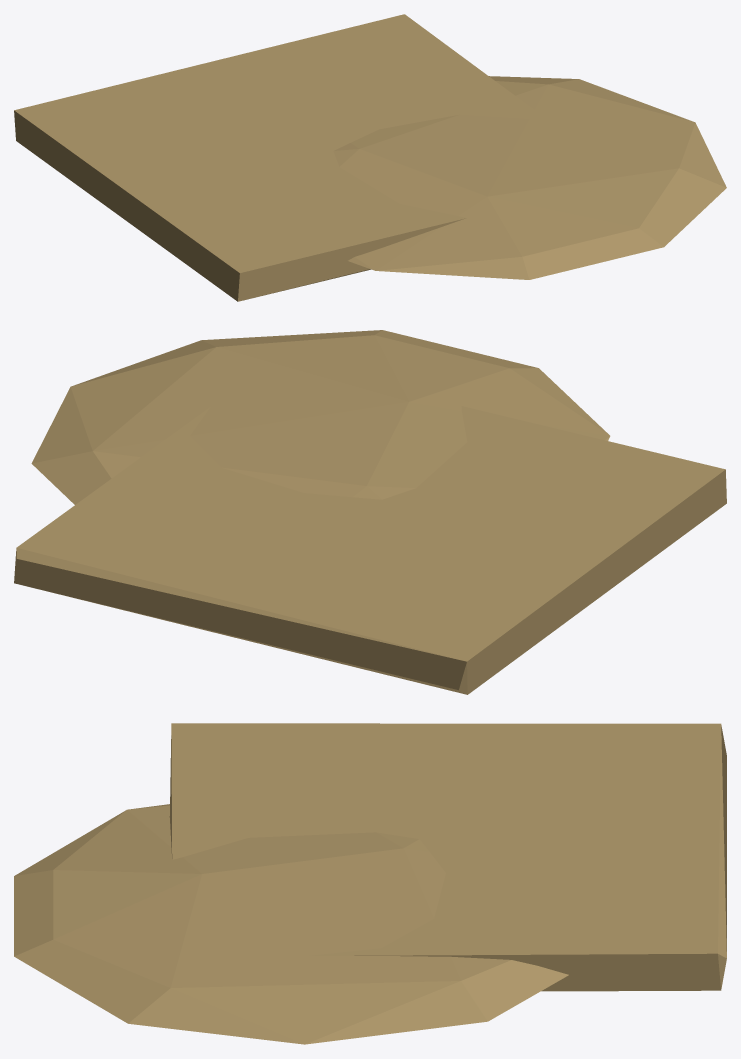
The model's file is coast-beach-corner.lod1.glb.
3 views of the same model, one above another, from view 1: azimuth 30°, elevation 25°; view 2: azimuth 150°, elevation 25°; view 3: azimuth 270°, elevation 25° (orthographic). The views are drawn at different scales.
Visible parts, largest first — view 1: coast-beach-corner__body; view 2: coast-beach-corner__body; view 3: coast-beach-corner__body.
Boxes of the visible parts, x1,y1,x2,y2 form: coast-beach-corner__body: (14,14,726,301); coast-beach-corner__body: (14,330,726,694); coast-beach-corner__body: (14,723,726,1044).
Size of the model in its own units: 5.17 by 0.3617 by 5.09.
